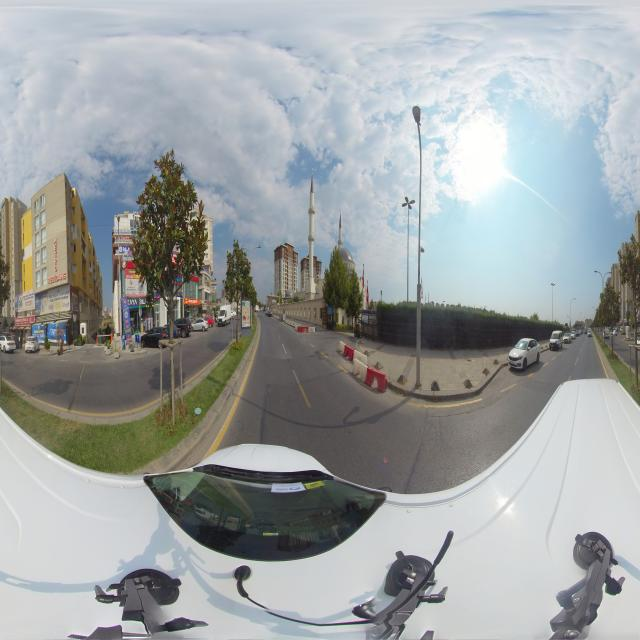SignStore: (14, 316, 34, 325), (185, 298, 200, 305), (129, 297, 138, 307), (119, 236, 130, 242), (119, 228, 132, 233)
